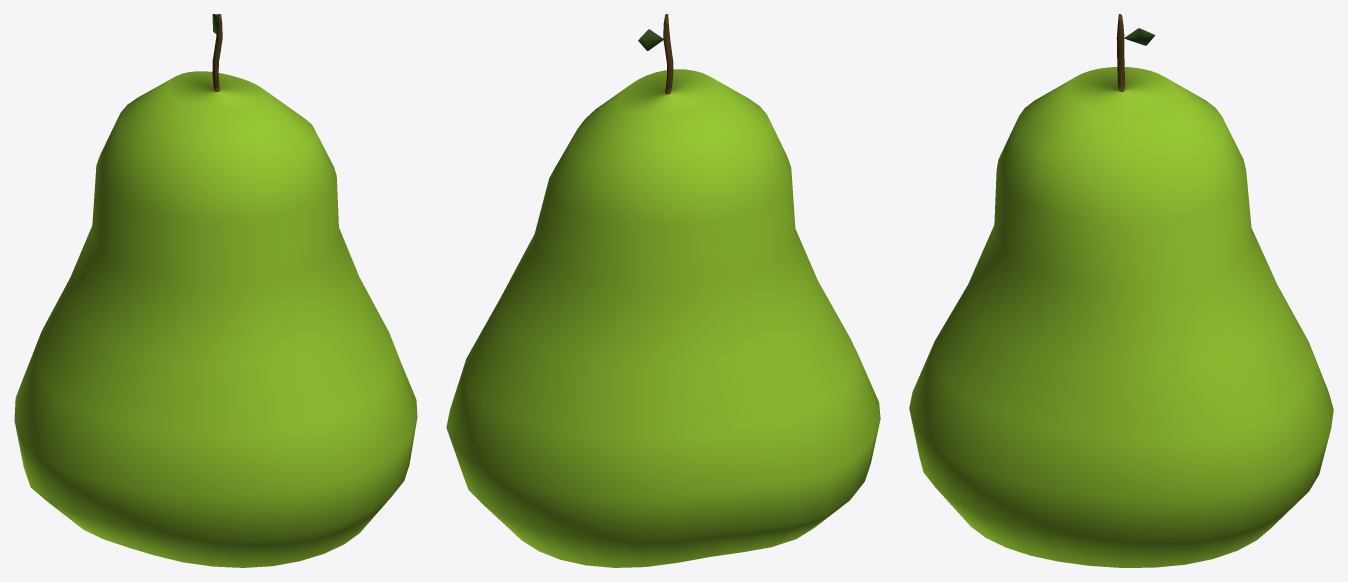
The model's file is Pear.fbx.
3 renders of one model, left to right at view 1: azimuth 30°, elevation 25°; view 2: azimuth 150°, elevation 25°; view 3: azimuth 270°, elevation 25°, orthographic.
Parts seen in each view (by area): view 1: Pear; view 2: Pear; view 3: Pear.
Boxes of the visible parts, left/top/right/bottom form: Pear: left=14, top=14, right=417, bottom=567; Pear: left=446, top=14, right=880, bottom=567; Pear: left=909, top=14, right=1333, bottom=567.
Size of the model in its own units: 210 by 283 by 213.
